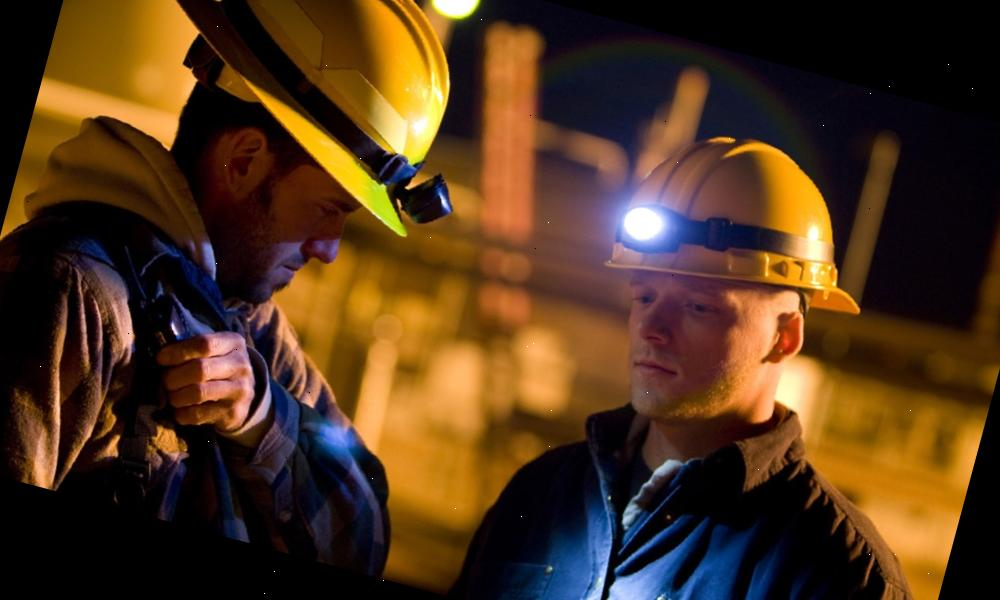helmet: (116, 0, 498, 246), (598, 108, 897, 336)
wear: (444, 396, 958, 600)
